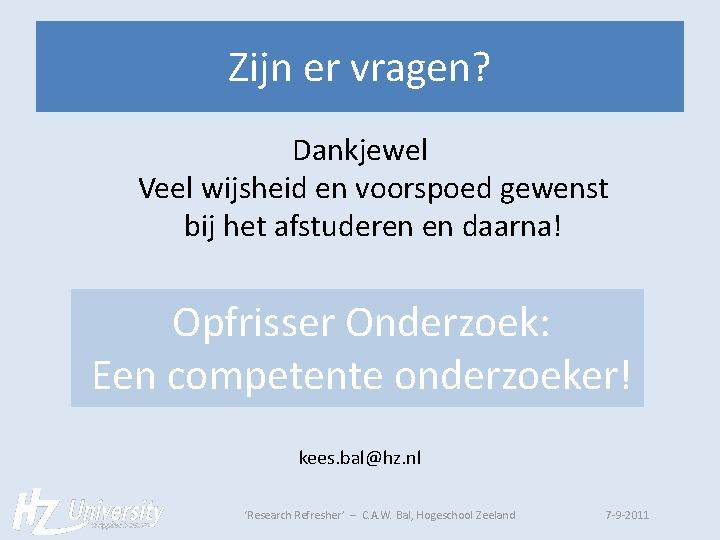title: (80, 291, 652, 409)
